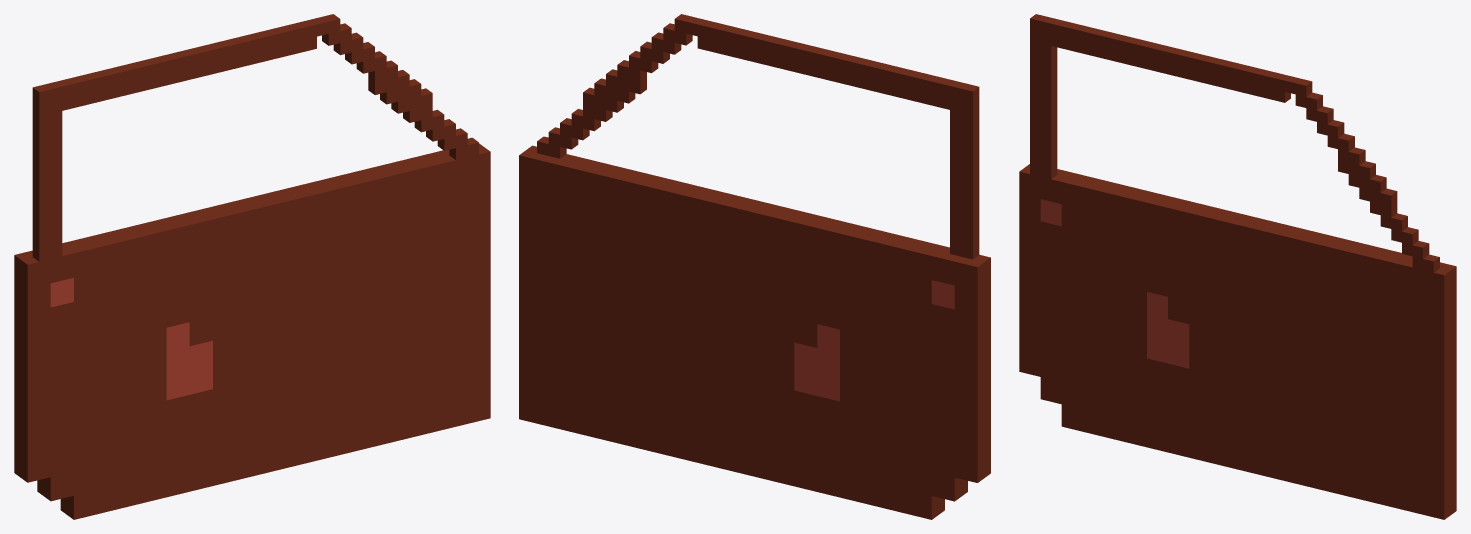
The model's file is abandoned_pickup_door.glb.
3 views of the same model, side by side, from view 1: azimuth 30°, elevation 25°; view 2: azimuth 150°, elevation 25°; view 3: azimuth 330°, elevation 25° (orthographic). The views are drawn at different scales.
Parts seen in each view (by area): view 1: body:compound; view 2: body:compound; view 3: body:compound.
Boxes of the visible parts, box(x1,y1,x2,y2) form: body:compound: box(14, 14, 490, 519); body:compound: box(519, 14, 990, 519); body:compound: box(1019, 14, 1456, 519).
Size of the model in its own units: 1.25 by 1.12 by 0.0625.
